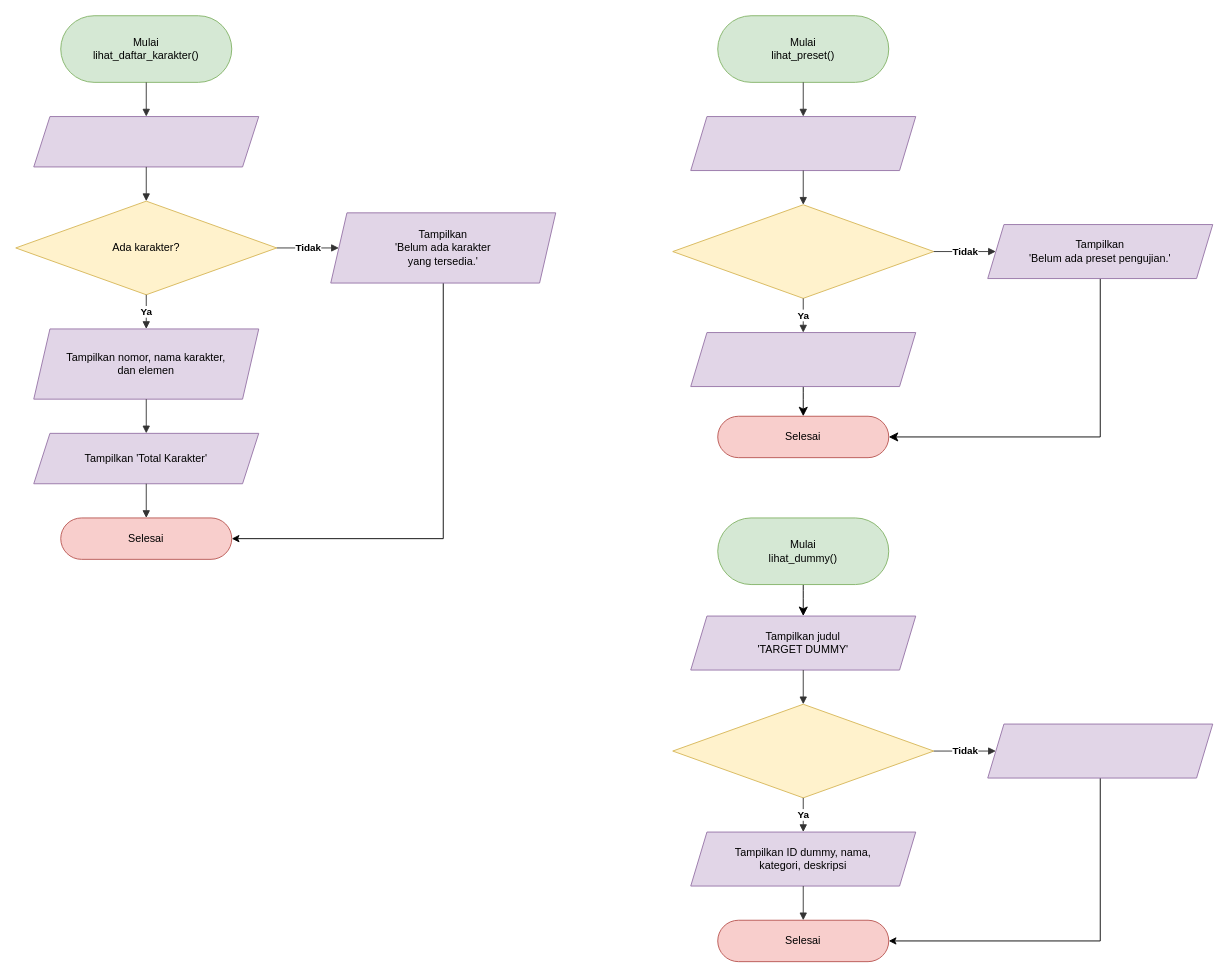
The diagram is 1229 pixels wide and 977 high, and some of its shapes have lost their labels. The shapes that lost their labels are listed below. From the top down, each one's box as (x1, y1, x2, y2) in pixels, then its label:
(33, 116, 259, 167): Tampilkan 'DAFTAR KARAKTER'
(690, 116, 916, 171): Tampilkan judul 'PRESET PENGUJIAN DPS'
(672, 204, 934, 298): Ada preset?
(690, 332, 916, 387): Tampilkan ID preset, nama, deskripsi
(672, 703, 934, 798): Ada target dummy?
(987, 723, 1213, 778): Tampilkan 'Belum ada target dummy.'
